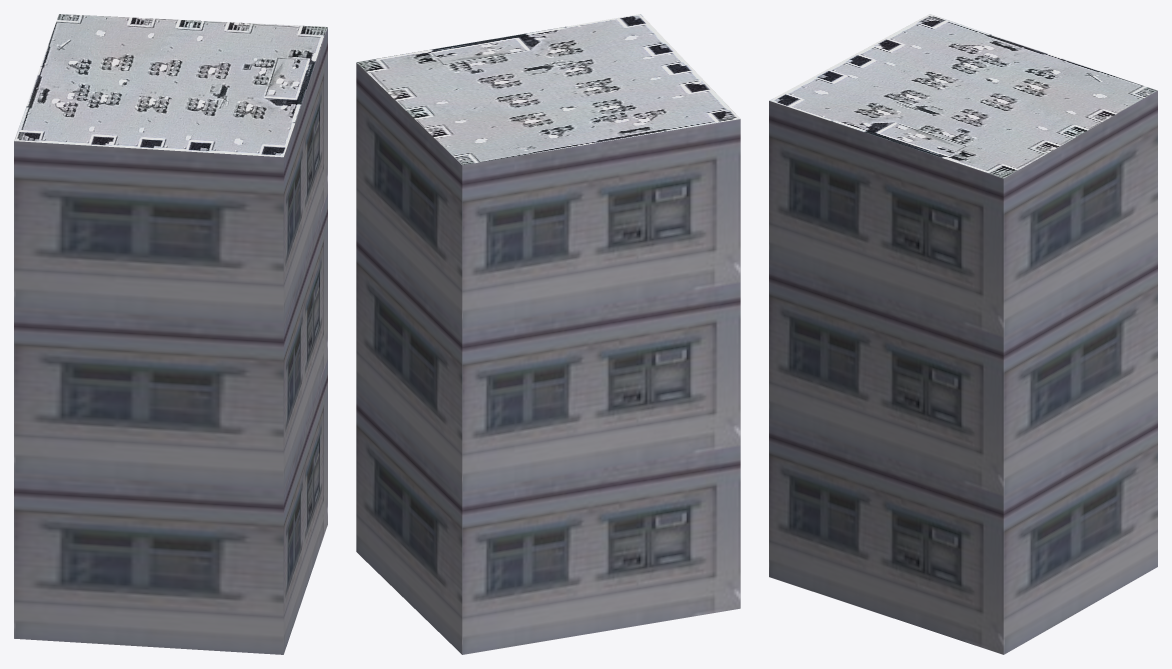
The model's file is ResTex__2124.fbx.
The picture shows the model from 3 angles, left to right: view 1: azimuth 30°, elevation 25°; view 2: azimuth 150°, elevation 25°; view 3: azimuth 270°, elevation 25°; orthographic projection. The views are drawn at different scales.
Parts seen in each view (by area): view 1: CityEngineMaterial_1_m, CityEngineMaterial_8_m; view 2: CityEngineMaterial_1_m, CityEngineMaterial_8_m; view 3: CityEngineMaterial_1_m, CityEngineMaterial_8_m.
Boxes of the visible parts, x1,y1,x2,y2 form: CityEngineMaterial_1_m: [14, 27, 327, 654]; CityEngineMaterial_8_m: [14, 14, 327, 157]; CityEngineMaterial_1_m: [356, 63, 740, 654]; CityEngineMaterial_8_m: [356, 14, 740, 165]; CityEngineMaterial_1_m: [769, 91, 1157, 654]; CityEngineMaterial_8_m: [769, 14, 1157, 178].
Size of the model in its own units: 6.67 by 9 by 6.66.
2 materials, 2 textured.
